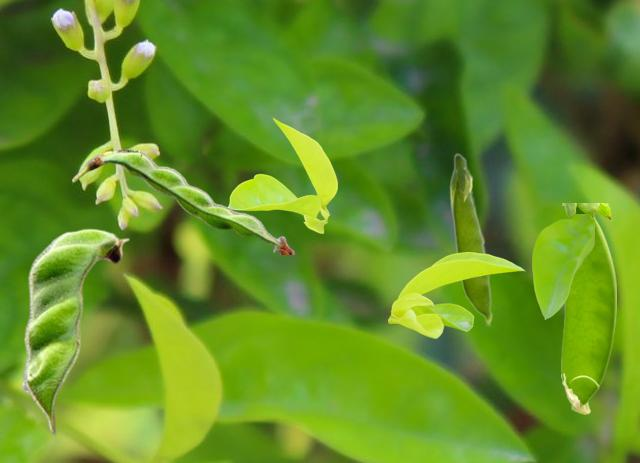pea: (72, 149, 294, 253), (20, 228, 129, 434), (561, 203, 615, 413), (449, 152, 492, 325)
